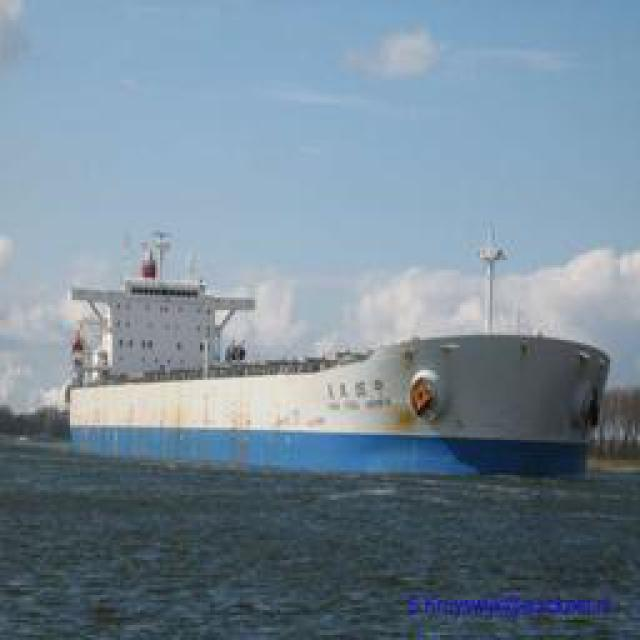Ship: (60, 325, 620, 468)
